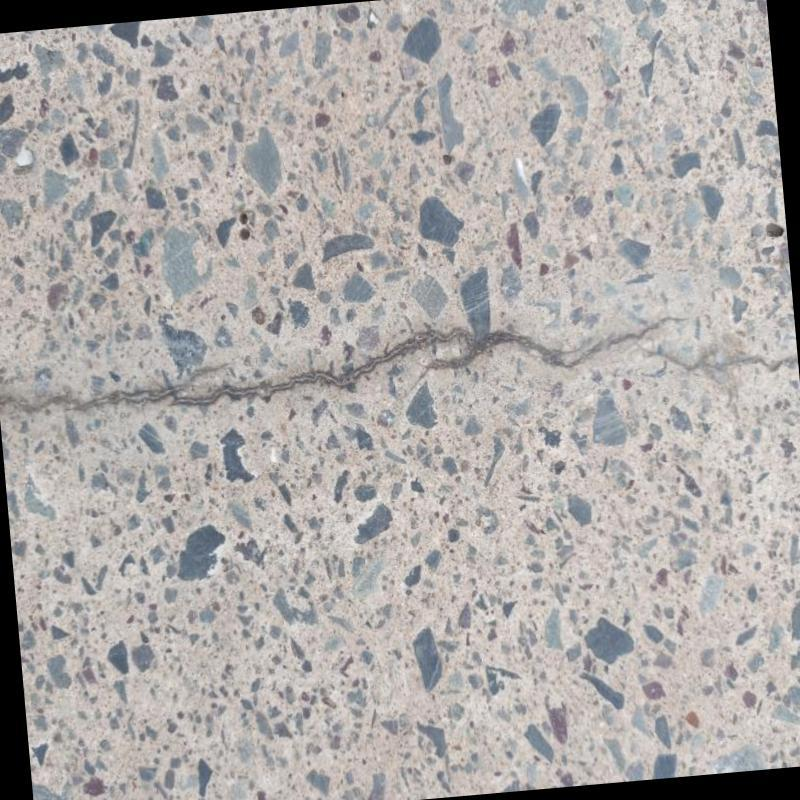pothole: (0, 318, 797, 410)
